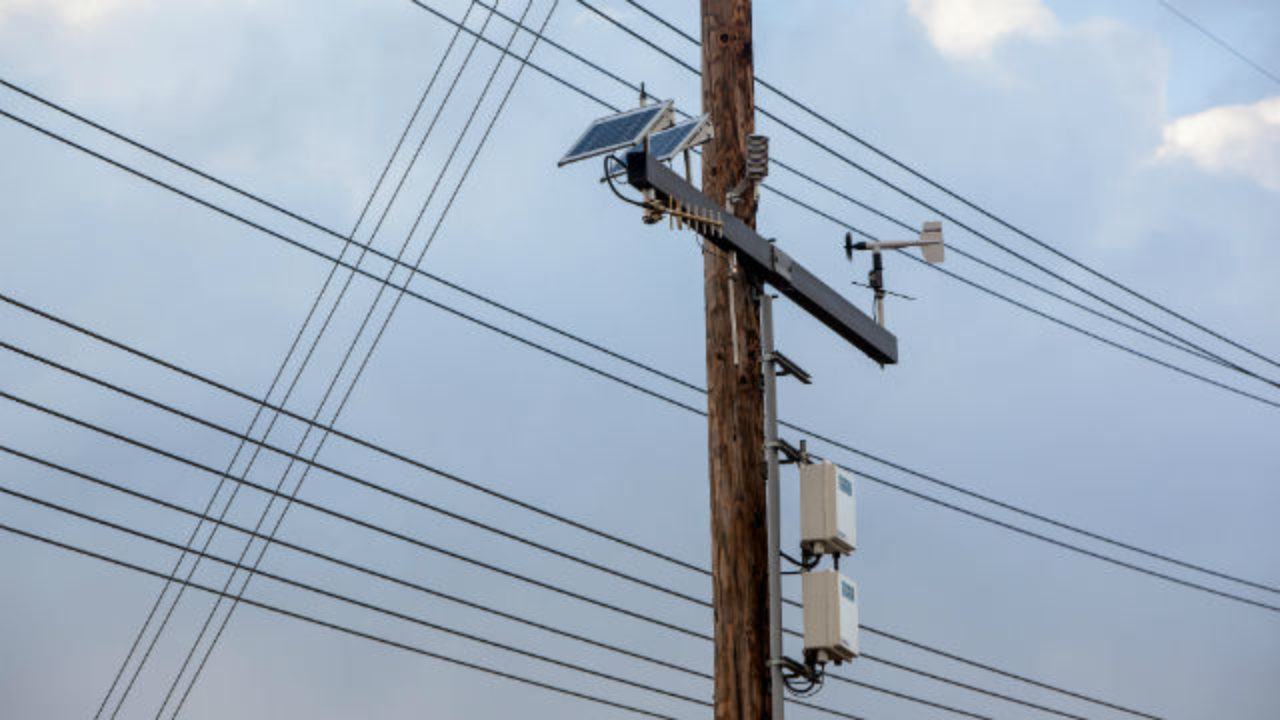utility_pole: (548, 2, 972, 696)
